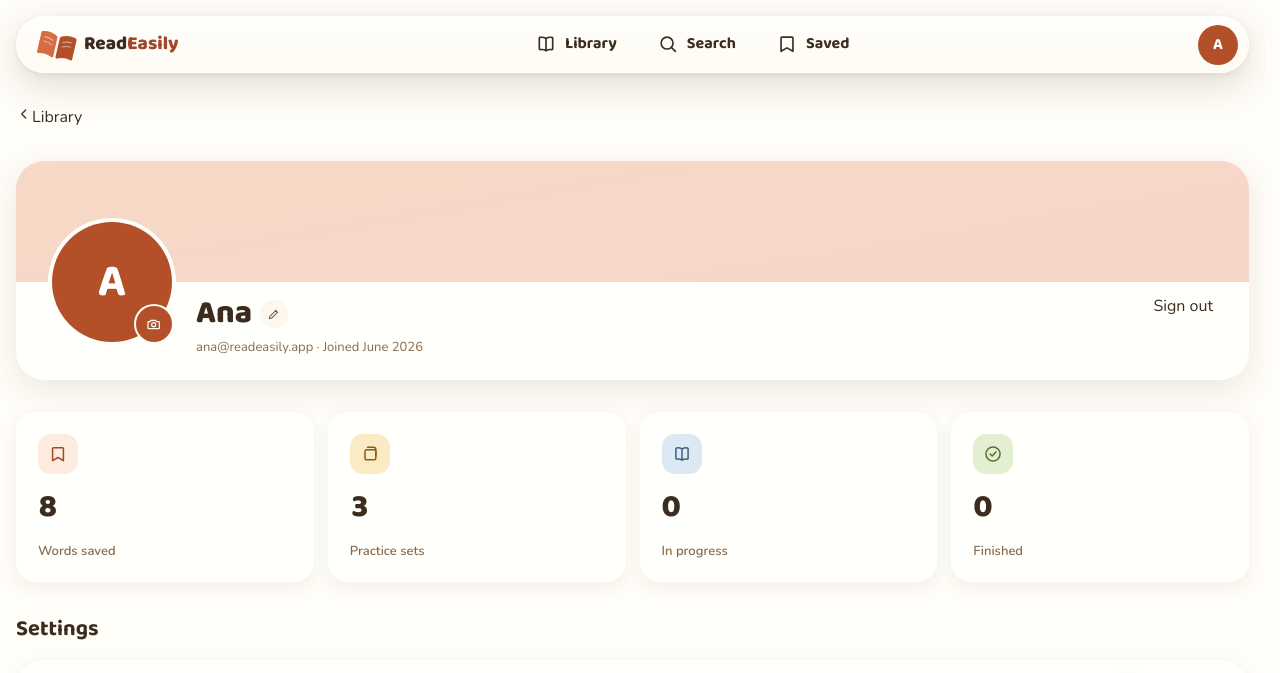
ProfileScreen — editing the display name persists and propagates › reflects the new name in the header h1 AND the navbar avatar, and persists it
Expected: the heading "Ana" is shown, [196,294,252,334]
Note: Open the inline editor, replace the name, commit with Enter.
Click the button named "Edit name" at (274, 314), box [260,300,288,328]
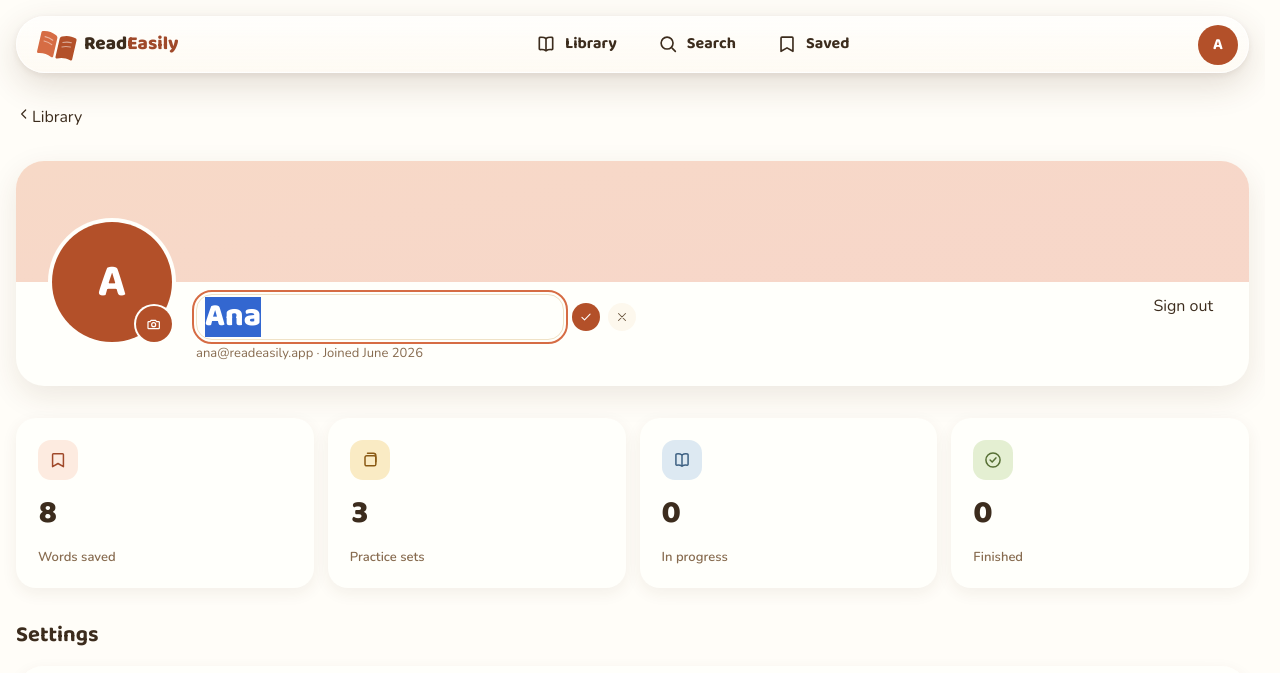
Replace the text in the field named "Your name" with "Ana Lopez" at (380, 317), box [196,294,564,340]
Then press Enter
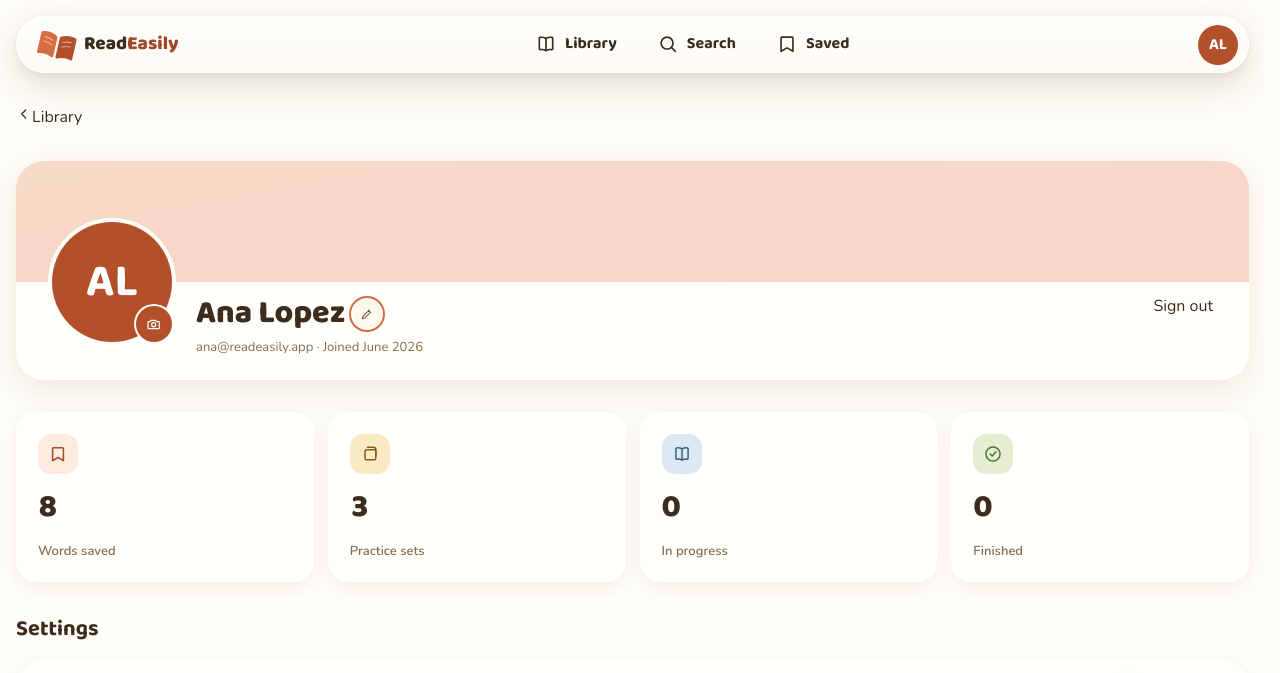
Result: the heading "Ana Lopez" is shown at [196,294,345,334]
Result: the picture named "Ana Lopez" is shown at [1198,24,1238,64]
